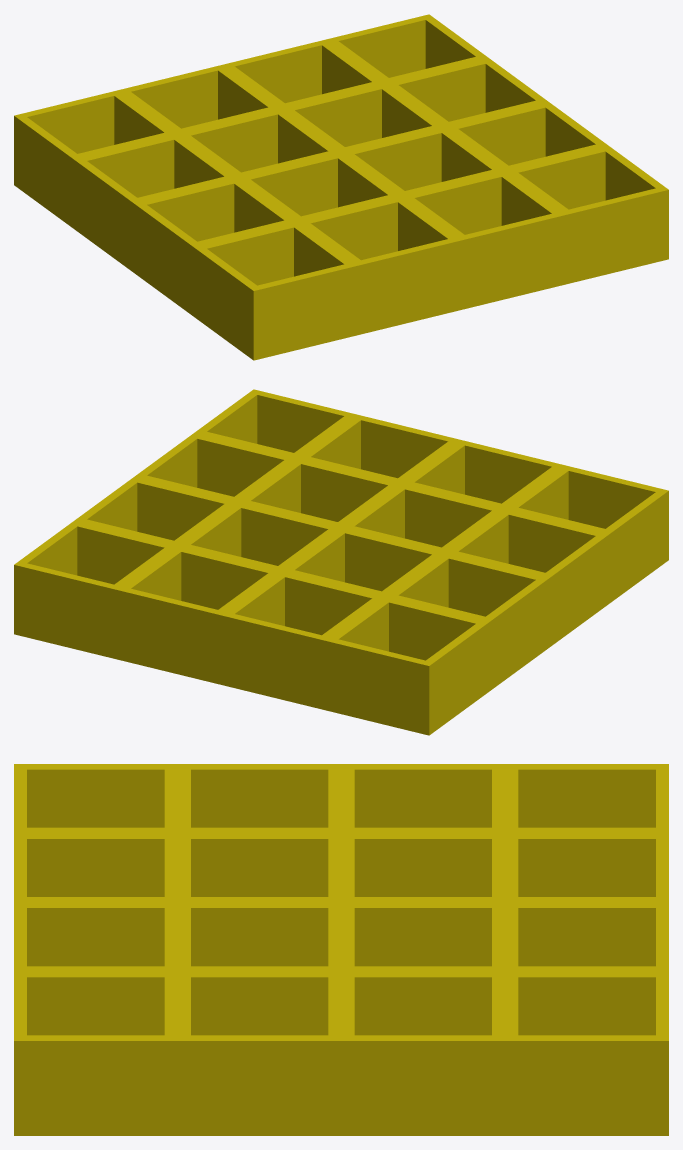
Rendered from sp_grating_b.dae.
The picture shows the model from 3 angles, top to bottom: view 1: azimuth 30°, elevation 25°; view 2: azimuth 150°, elevation 25°; view 3: azimuth 270°, elevation 25°; orthographic projection. The views are drawn at different scales.
Visible parts, largest first — view 1: grating_b; view 2: grating_b; view 3: grating_b.
Boxes of the visible parts, left/top/right/bottom form: grating_b: left=14, top=14, right=668, bottom=360; grating_b: left=14, top=389, right=668, bottom=735; grating_b: left=14, top=764, right=668, bottom=1135.
Bounding box in the file's own units: 0.25 × 0.25 × 0.04.
